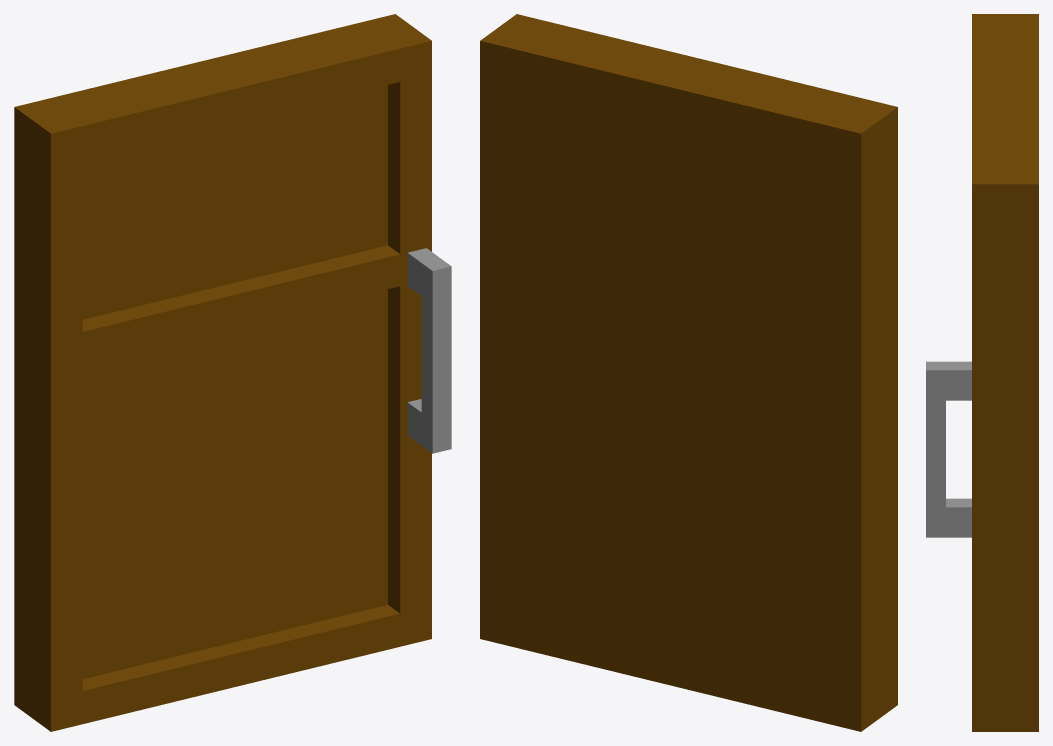
Rendered from Door.fbx.
3 renders of one model, left to right at view 1: azimuth 30°, elevation 25°; view 2: azimuth 150°, elevation 25°; view 3: azimuth 270°, elevation 25°, orthographic. The views are drawn at different scales.
Visible parts, largest first — view 1: pCubeShape1; view 2: pCubeShape1; view 3: pCubeShape1.
Boxes of the visible parts, x1,y1,x2,y2 form: pCubeShape1: (14, 14, 451, 731); pCubeShape1: (480, 14, 897, 731); pCubeShape1: (926, 14, 1038, 731).
Bounding box in the file's own units: 6 × 9 × 1.68.
